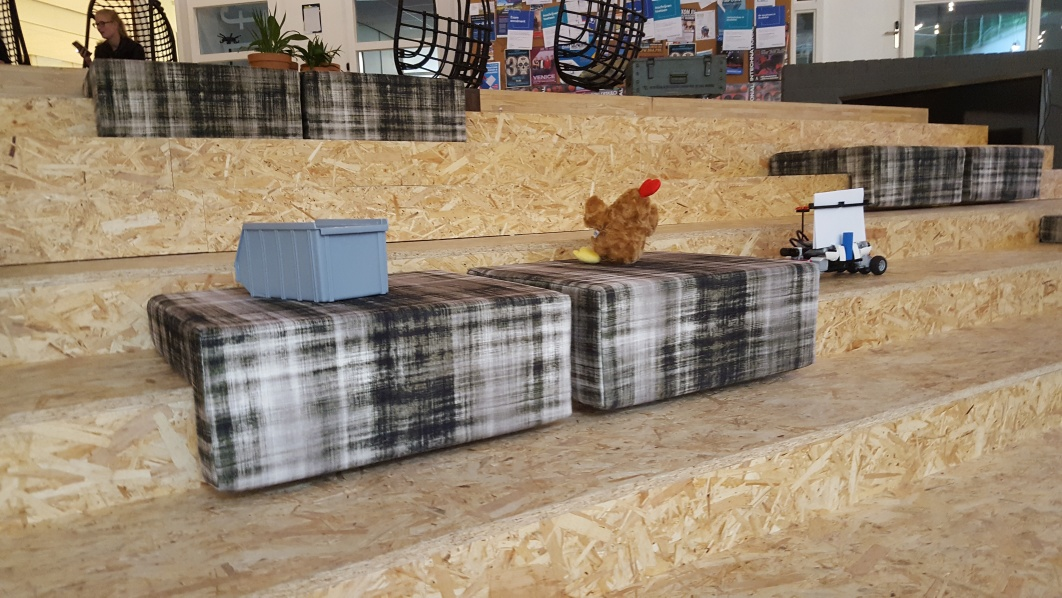car: (782, 186, 886, 275)
chicken: (571, 180, 668, 263)
tray: (231, 216, 392, 305)
